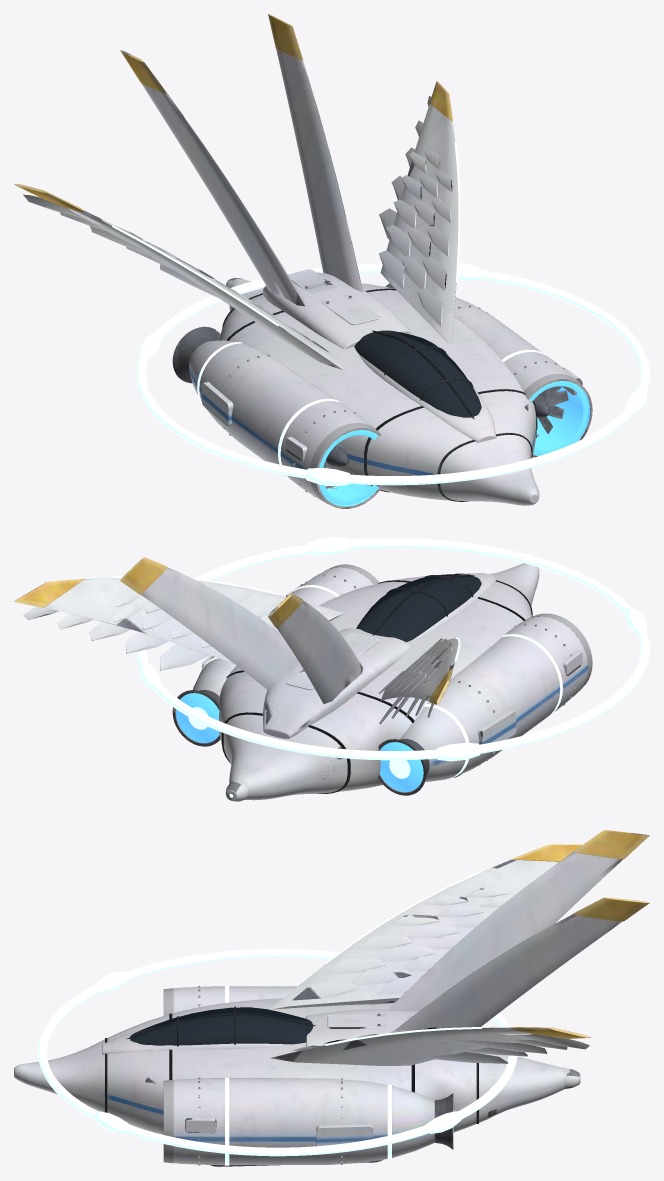
File: zenith.glb
3 views of the same model, one above another, from view 1: azimuth 30°, elevation 25°; view 2: azimuth 150°, elevation 25°; view 3: azimuth 270°, elevation 25° (orthographic). The views are drawn at different scales.
Visible parts, largest first — view 1: zenith_body, spin_halo, canopy, zenith_emissive, fan_L; view 2: zenith_body, spin_halo, canopy, zenith_emissive; view 3: zenith_body, spin_halo, canopy, zenith_emissive.
Part boxes in pixels (x1,y1,x2,y2): zenith_body: [14, 14, 592, 508]; spin_halo: [136, 263, 649, 486]; canopy: [354, 330, 481, 417]; zenith_emissive: [112, 141, 590, 506]; fan_L: [534, 386, 568, 437]; zenith_body: [14, 557, 592, 801]; spin_halo: [136, 537, 649, 761]; canopy: [356, 574, 481, 642]; zenith_emissive: [112, 576, 562, 797]; zenith_body: [14, 830, 649, 1166]; spin_halo: [38, 948, 517, 1156]; canopy: [130, 1007, 312, 1045]; zenith_emissive: [225, 870, 482, 1165].
Bounding box in the file's own units: 3.36 × 2.01 × 4.46.
6 materials, 2 textured.
